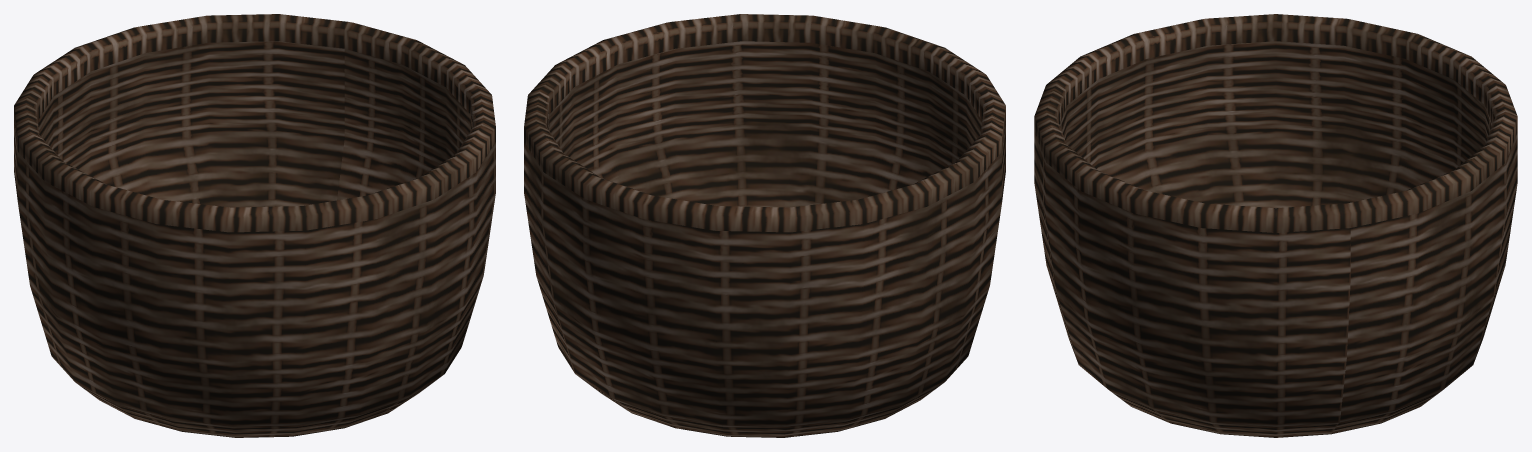
The model's file is basket_1.FBX.
The picture shows the model from 3 angles, left to right: view 1: azimuth 30°, elevation 25°; view 2: azimuth 150°, elevation 25°; view 3: azimuth 270°, elevation 25°; orthographic projection.
Parts seen in each view (by area): view 1: mesh; view 2: mesh; view 3: mesh.
Part boxes in pixels (<box>): mesh: <box>14,14,495,437</box>; mesh: <box>524,14,1005,437</box>; mesh: <box>1034,14,1517,437</box>.
Size of the model in its own units: 79.56 by 79.56 by 45.61.
